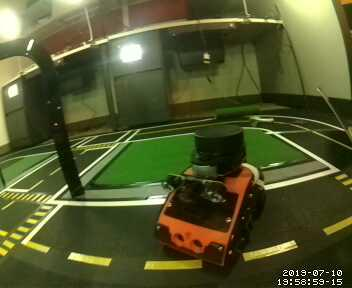pheeno: (151, 123, 268, 277)
